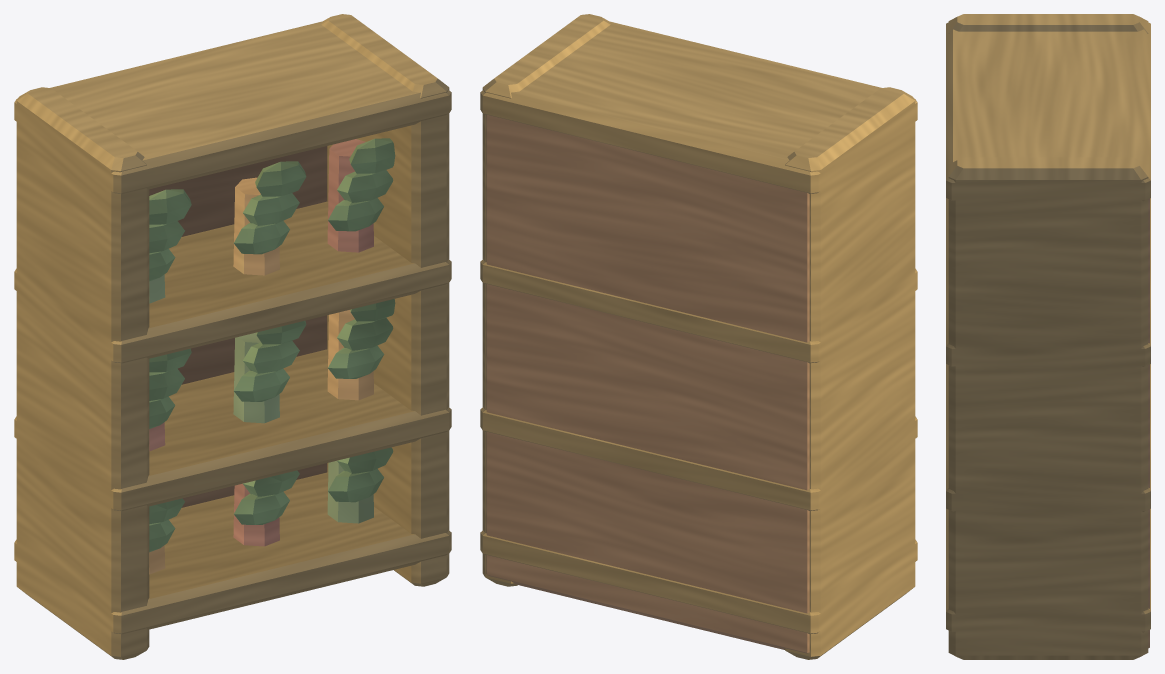
Rendered from furniture_vines.glb.
3 views of the same model, side by side, from view 1: azimuth 30°, elevation 25°; view 2: azimuth 150°, elevation 25°; view 3: azimuth 270°, elevation 25° (orthographic). The views are drawn at different scales.
Parts seen in each view (by area): view 1: Rankregal; view 2: Rankregal; view 3: Rankregal.
Part boxes in pixels (x1,y1,x2,y2): Rankregal: (14, 14, 451, 659); Rankregal: (480, 14, 917, 659); Rankregal: (946, 14, 1150, 659).
Size of the model in its own units: 1.15 by 1.63 by 0.616.
2 materials, 2 textured.
